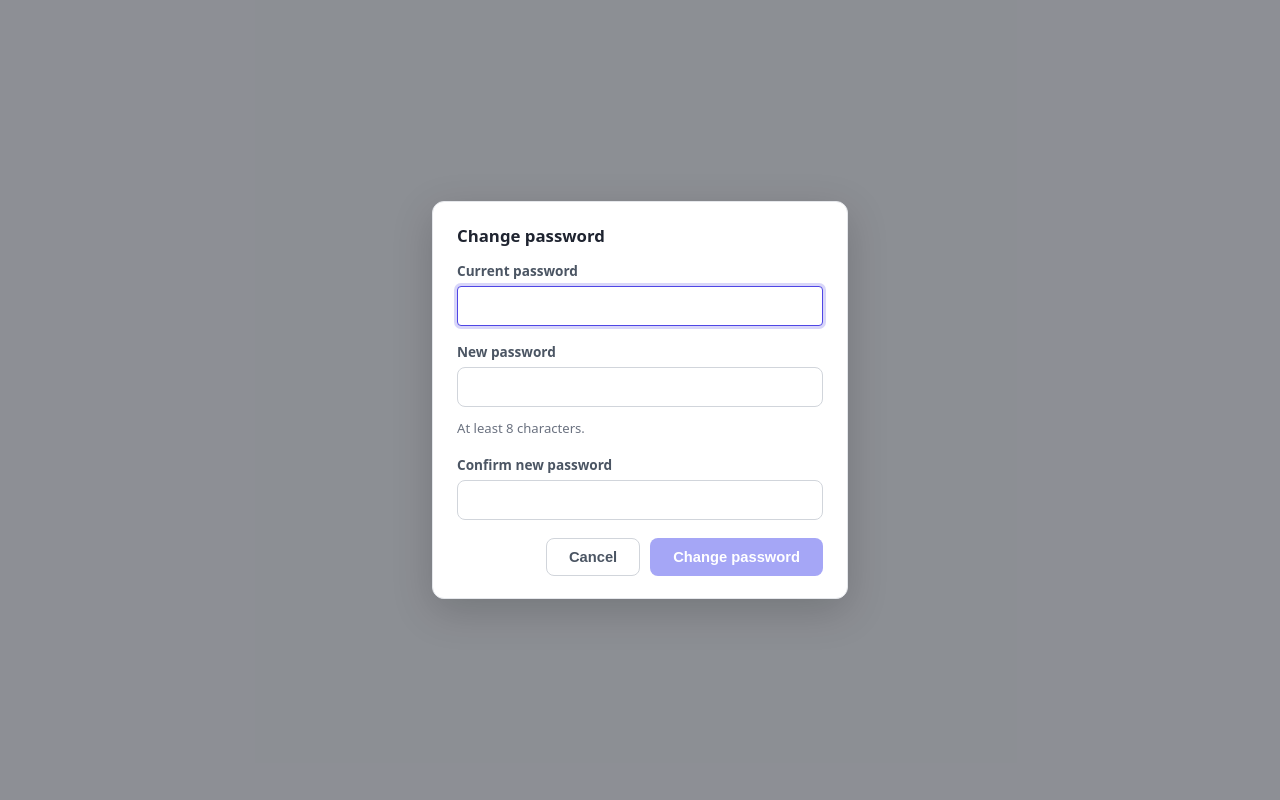
ChangePasswordDialog › swaps in the fresh token and reports the other sessions ending
The width and height of the screenshot is (1280, 800).
Type "hunter2" into the password field labelled "Current password" at (640, 306), box left=457, top=286, right=823, bottom=326
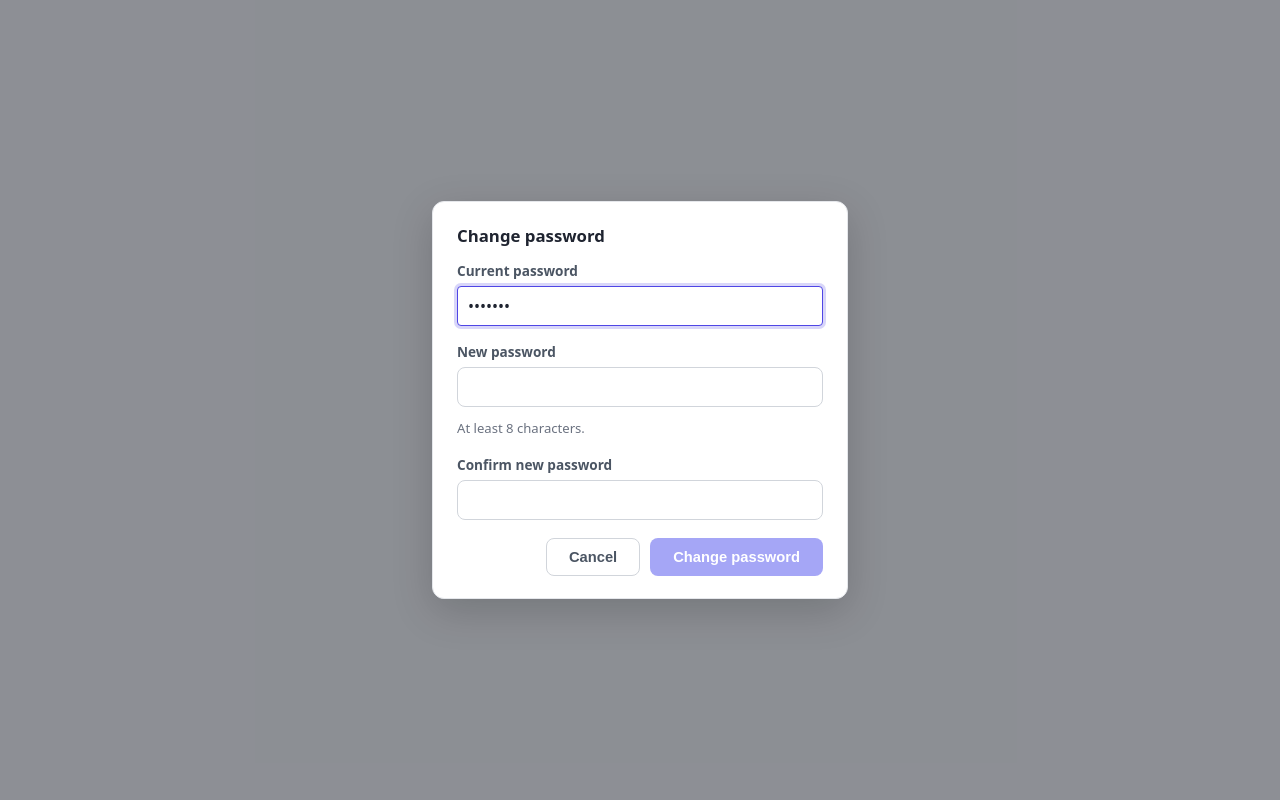
Type "correct-horse" into the password field labelled "New password" at (640, 388), box left=457, top=368, right=823, bottom=408
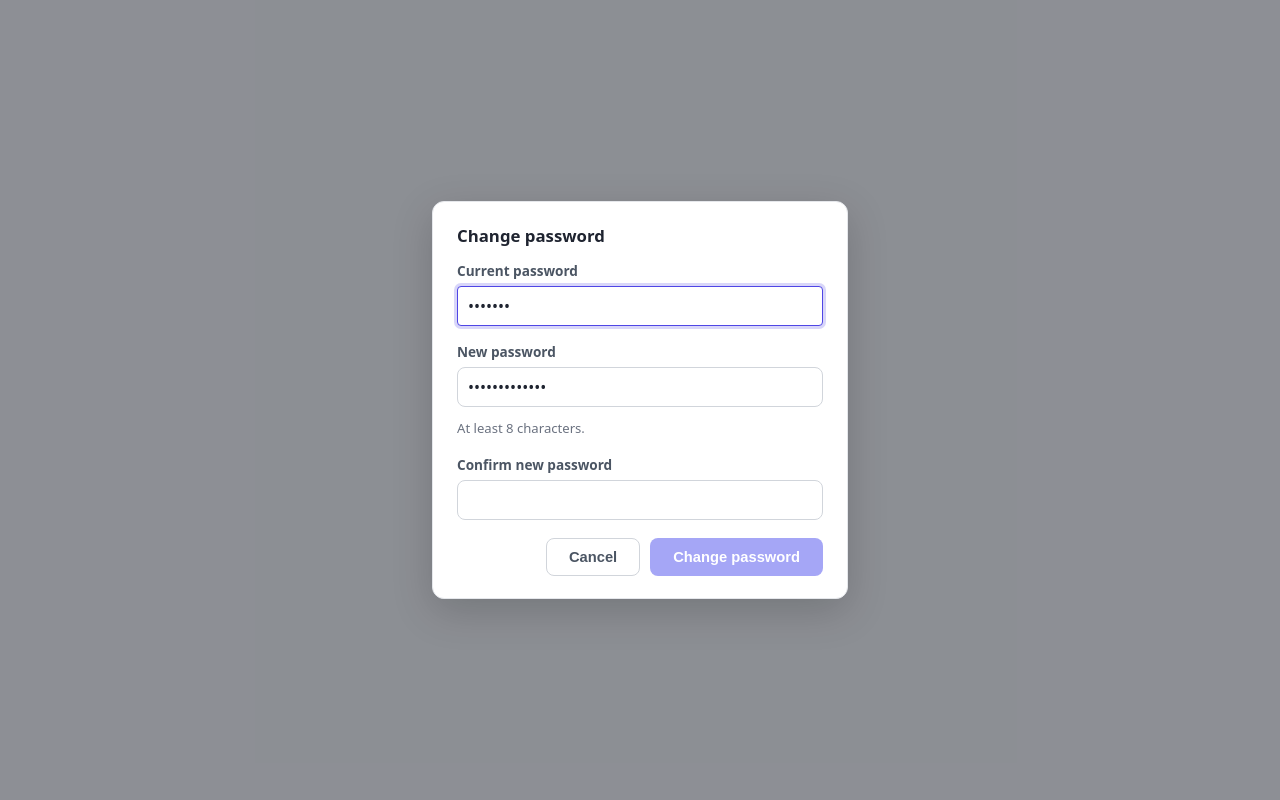
Type "correct-horse" into the password field labelled "Confirm new password" at (640, 500), box left=457, top=480, right=823, bottom=520
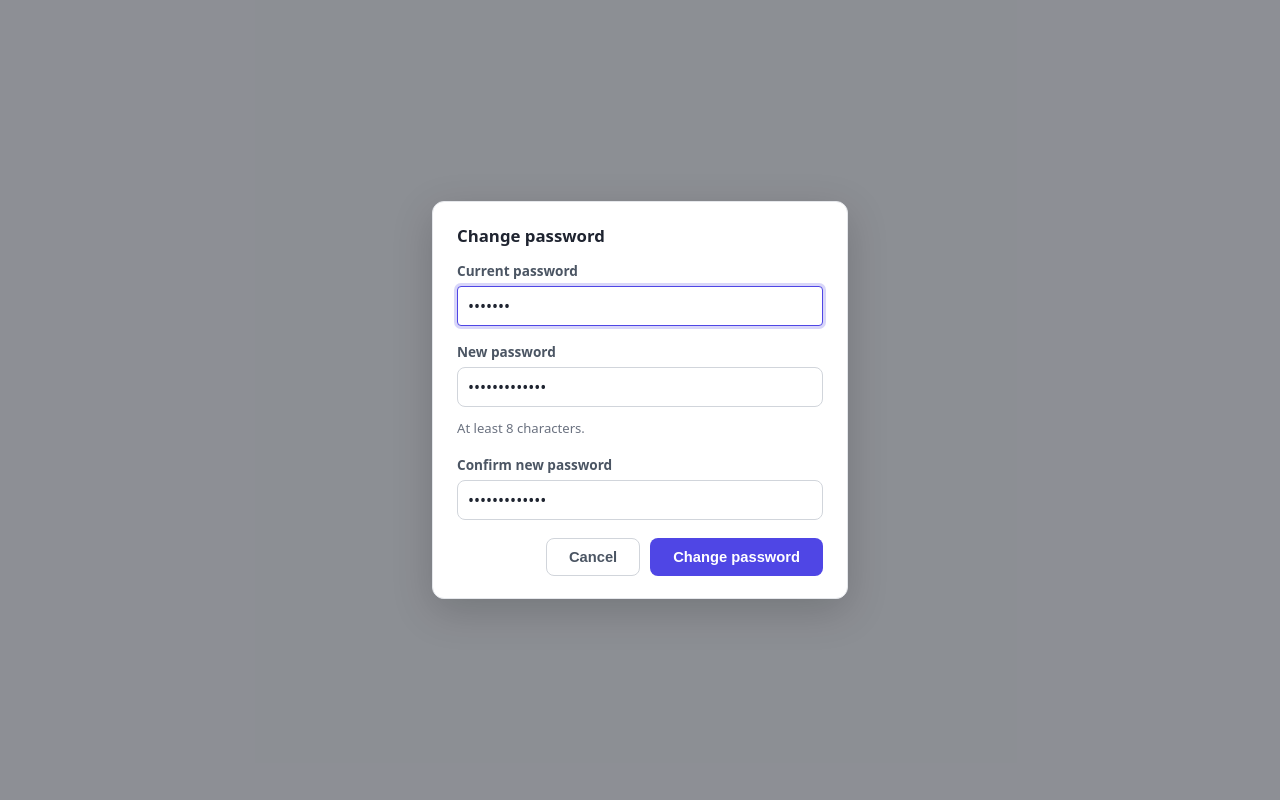
Click the button "Change password" at (737, 556), box left=650, top=538, right=823, bottom=576
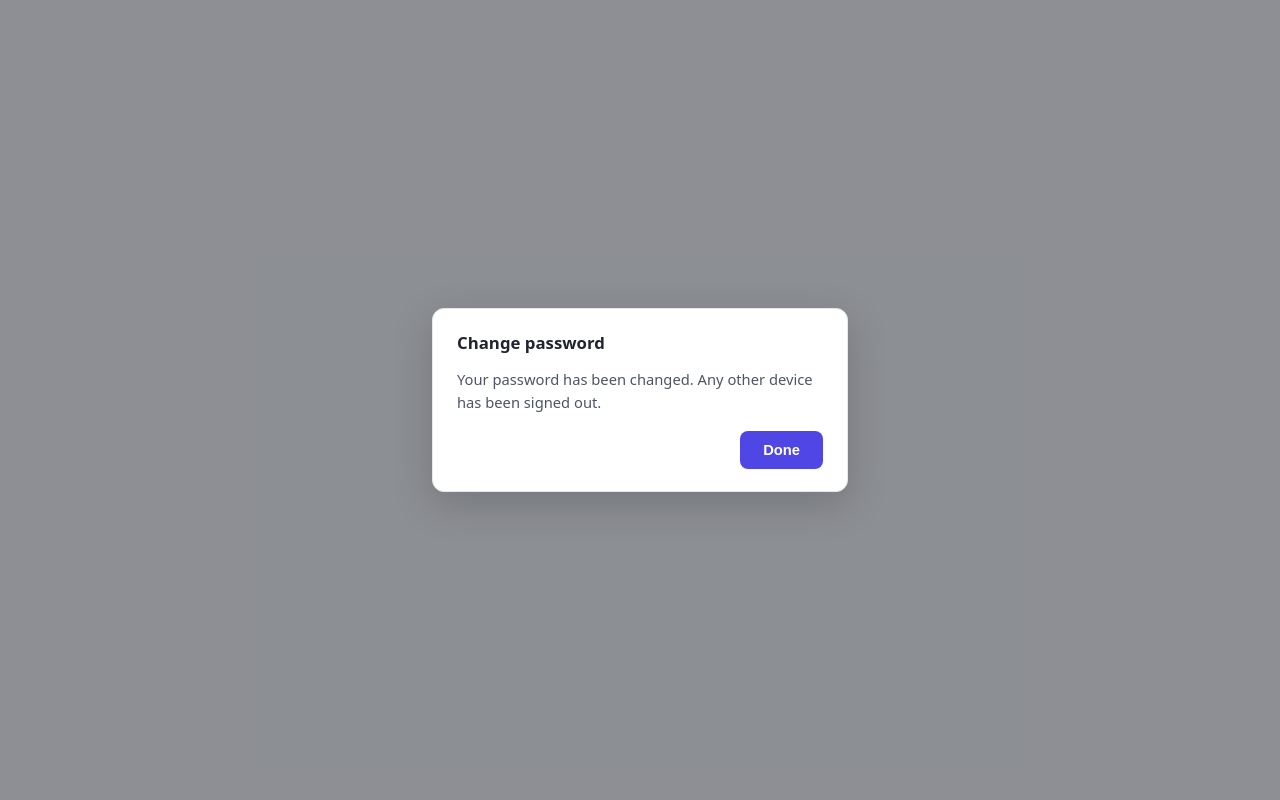
Expected: the text "signed out" is shown, left=457, top=369, right=813, bottom=412
